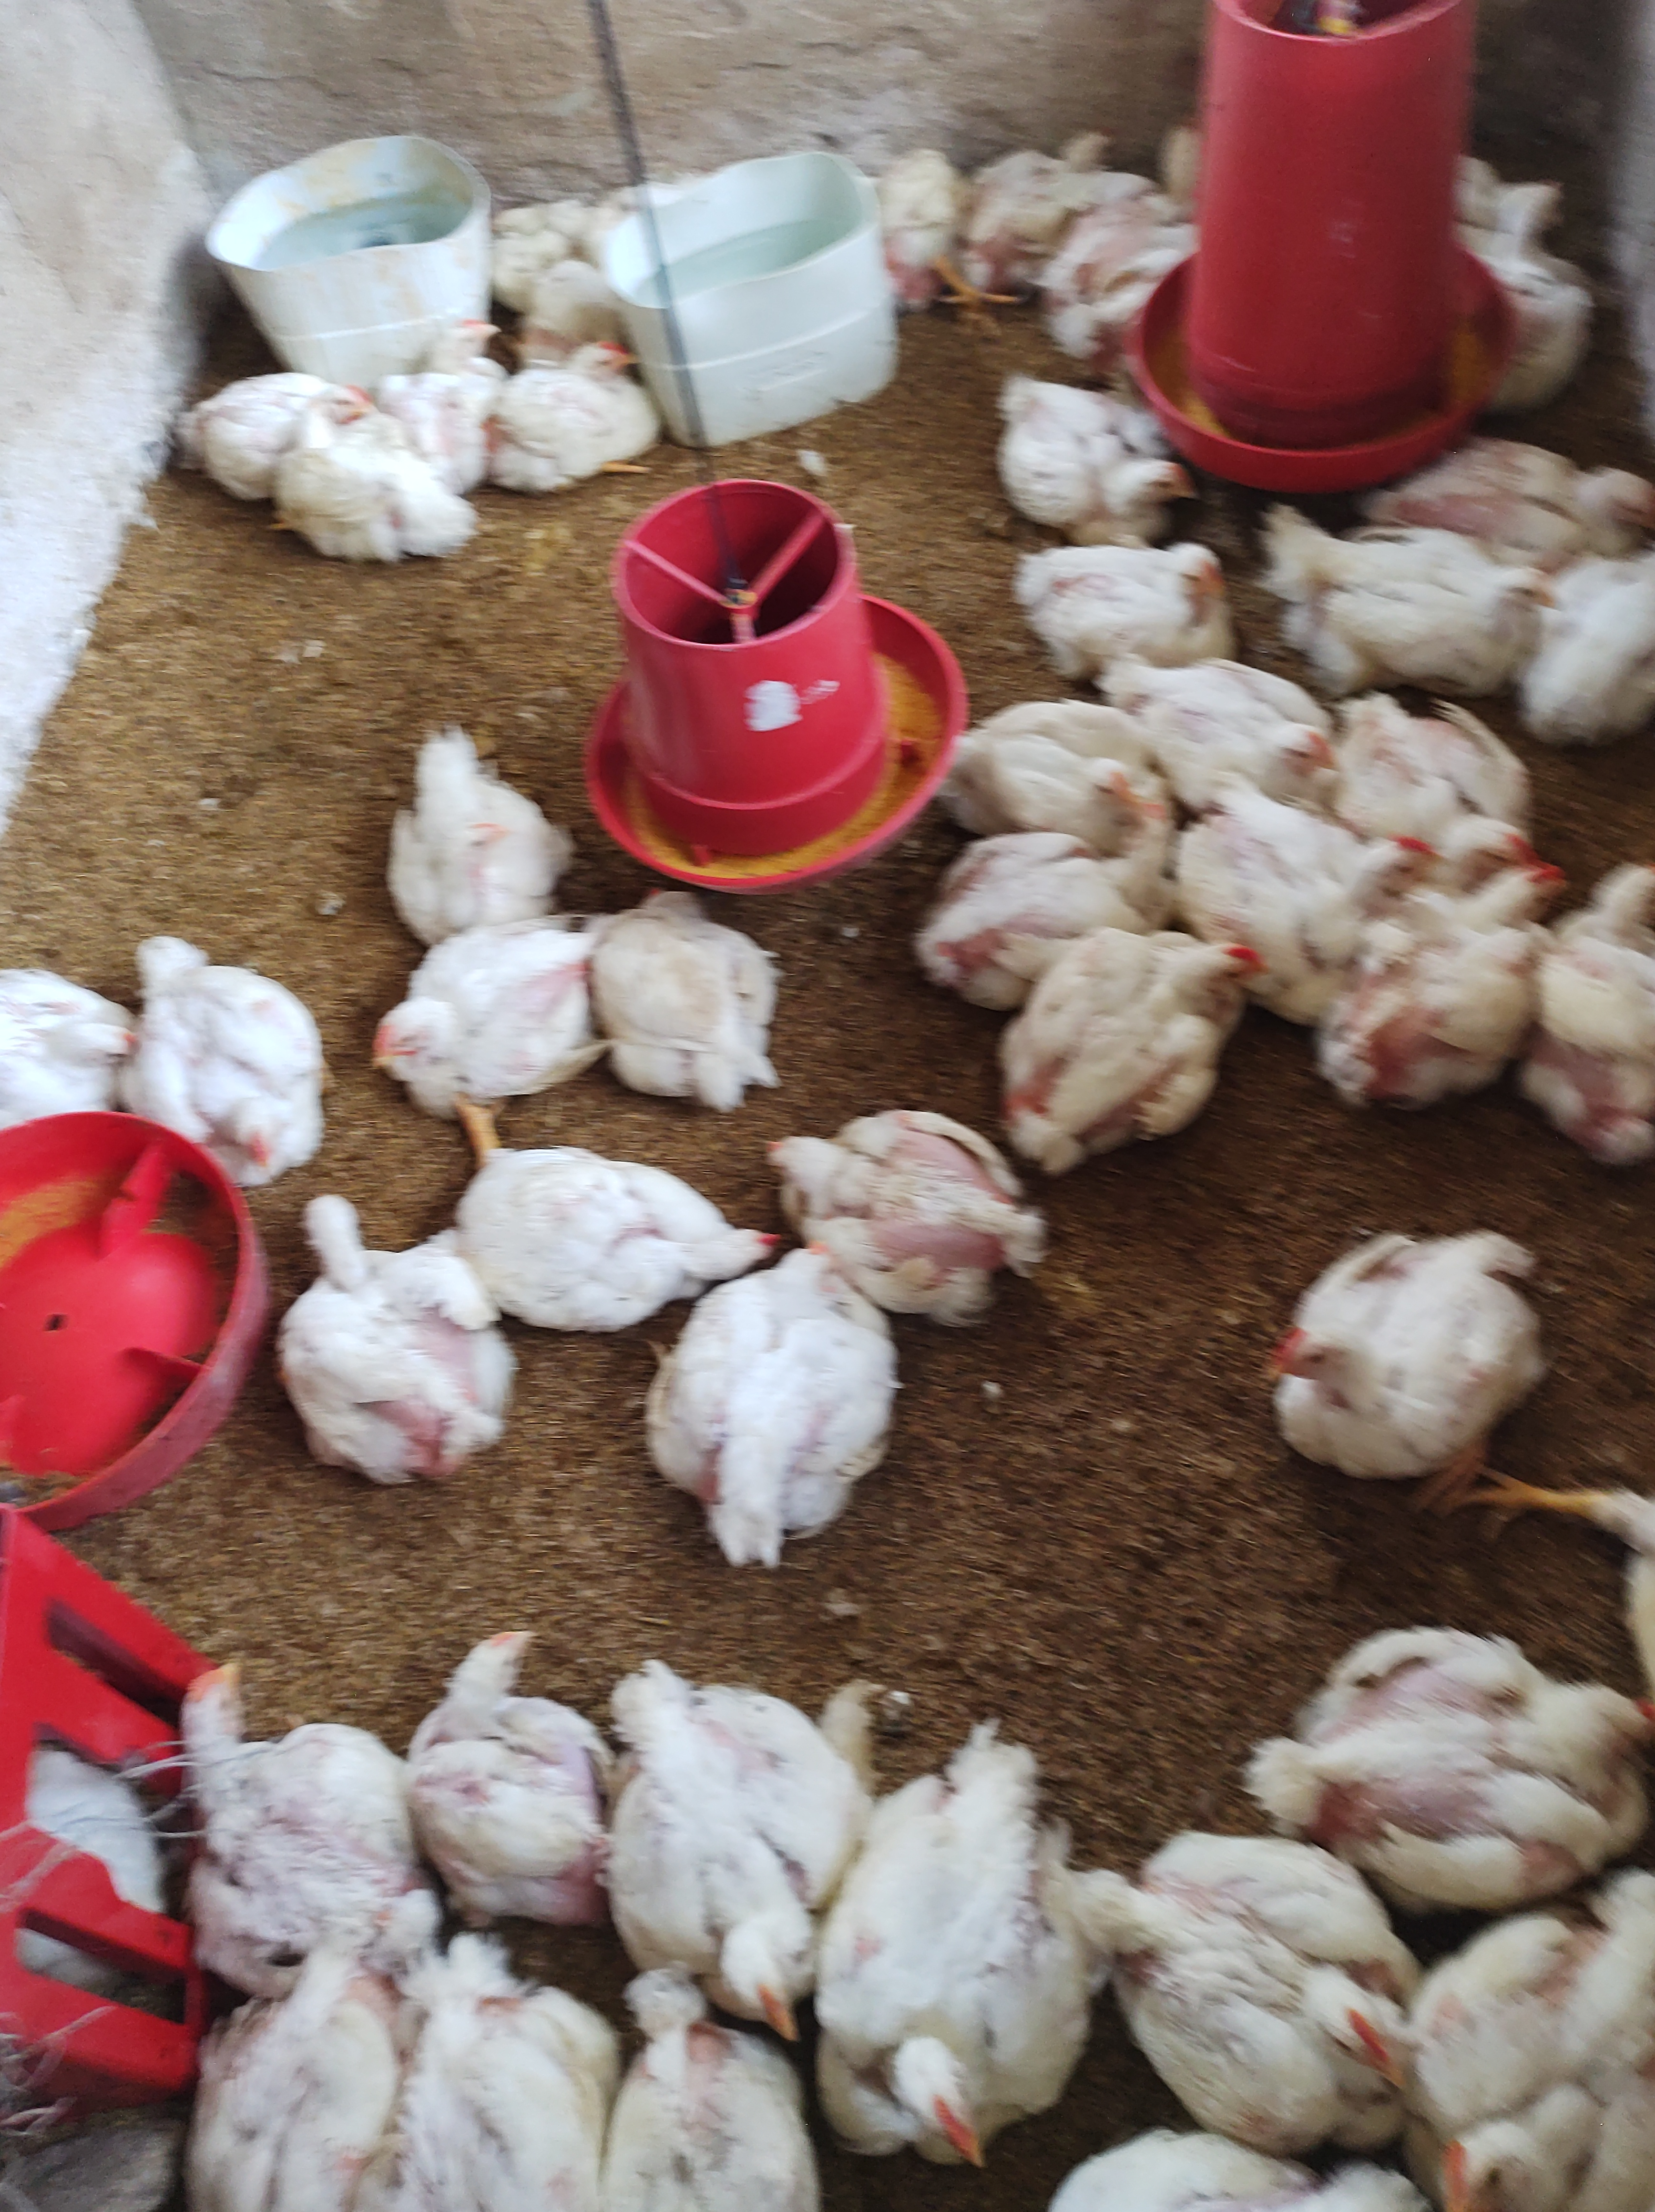Pollos: (845, 1751, 1120, 2162), (1267, 1631, 1655, 1889), (619, 1638, 864, 2038), (221, 1169, 502, 1492), (657, 1245, 940, 1555), (393, 1581, 624, 1948), (1132, 1845, 1434, 2125), (433, 1115, 777, 1358), (176, 1624, 407, 1953), (1267, 1233, 1565, 1489), (372, 1904, 608, 2212), (993, 922, 1283, 1156), (1434, 1930, 1655, 2212), (129, 916, 339, 1188), (1332, 863, 1556, 1106), (591, 871, 814, 1113), (760, 1120, 1055, 1297), (363, 916, 598, 1139), (346, 703, 570, 922), (186, 1970, 374, 2212), (628, 1981, 821, 2212), (1279, 541, 1545, 703), (1410, 398, 1655, 556), (1551, 828, 1655, 1188), (1003, 370, 1194, 539), (994, 530, 1233, 664), (946, 703, 1180, 838), (1472, 165, 1599, 402), (177, 344, 395, 480), (1168, 638, 1339, 802), (508, 334, 650, 506), (1398, 725, 1551, 856), (883, 130, 974, 339), (920, 882, 1033, 1021), (402, 299, 530, 409), (1031, 104, 1147, 200), (1333, 814, 1424, 932)
